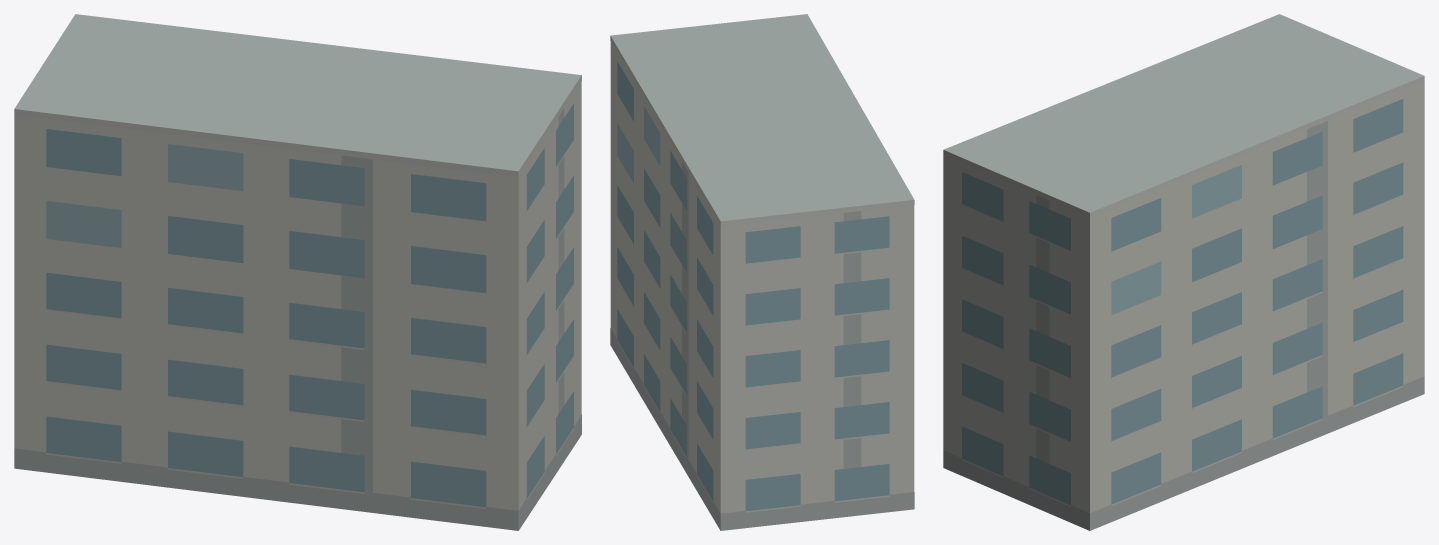
Rendered from survey-upis-32563384.glb.
3 renders of one model, left to right at view 1: azimuth 30°, elevation 25°; view 2: azimuth 150°, elevation 25°; view 3: azimuth 270°, elevation 25°, orthographic. The views are drawn at different scales.
Visible parts, largest first — view 1: survey-upis-32563384.tmp; view 2: survey-upis-32563384.tmp; view 3: survey-upis-32563384.tmp.
Boxes of the visible parts, x1,y1,x2,y2 form: survey-upis-32563384.tmp: (14,14,581,530); survey-upis-32563384.tmp: (610,14,914,530); survey-upis-32563384.tmp: (943,14,1424,530).
Bounding box in the file's own units: 19.43 × 14.5 × 19.89.
